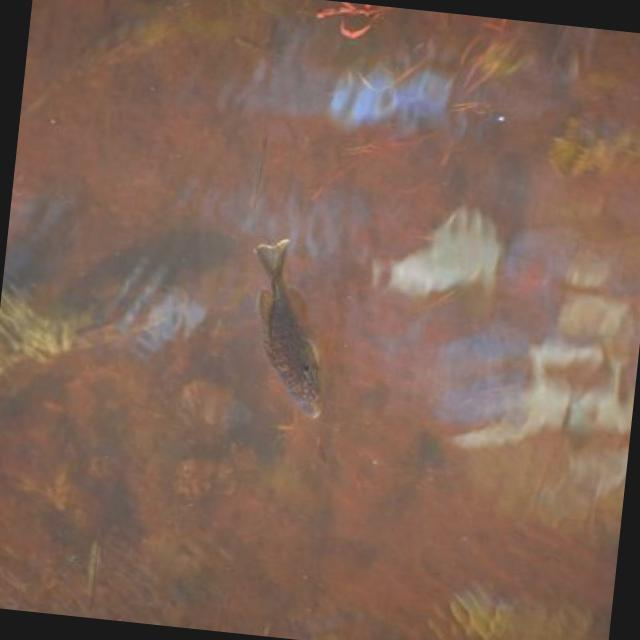Gunes Levregi: (236, 228, 346, 418)
